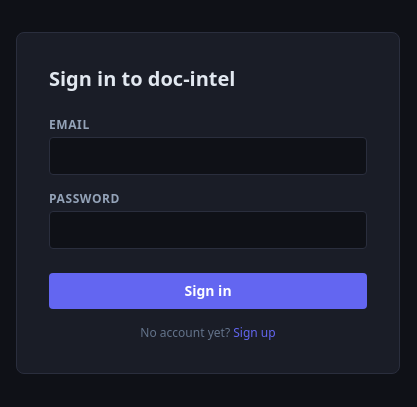
LoginPage › shows the error message when login throws
Type "alice@x.com" into the field labelled "Email" at (208, 156), box [49,137,367,175]
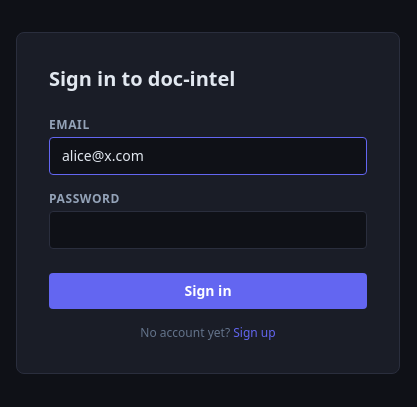
Type "wrong" into the password field labelled "Password" at (208, 230), box [49,211,367,249]
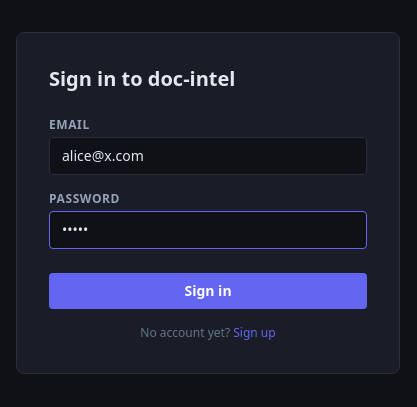
Click the button "Sign in" at (208, 291), box [49,273,367,309]
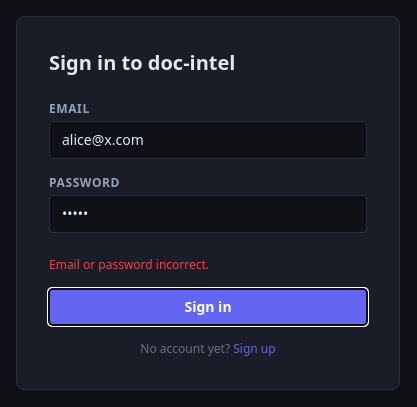
Check: the text "Email or password incorrect." is shown, box [49,256,209,273]
